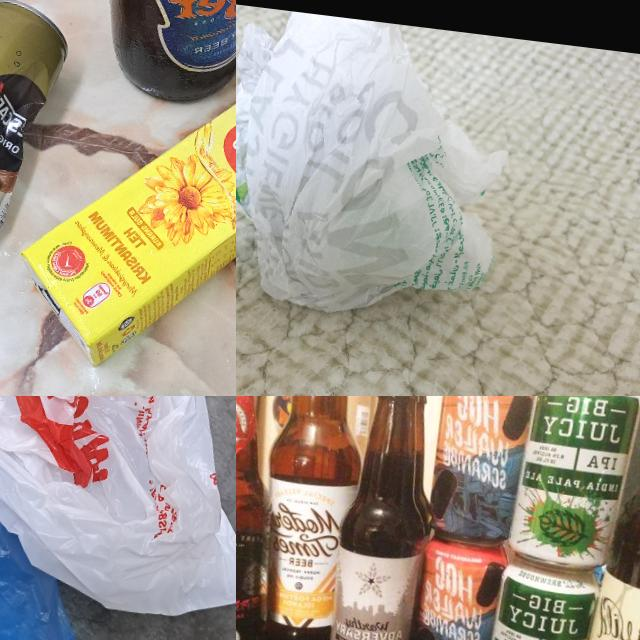caixinha: (10, 80, 236, 387)
garrafa de vidro: (246, 396, 378, 640), (320, 396, 444, 640), (563, 396, 640, 640), (68, 0, 236, 111), (236, 396, 290, 640)
lata: (506, 396, 640, 578), (0, 0, 75, 270), (424, 396, 537, 547)
sacola plástica: (236, 1, 532, 352), (0, 396, 236, 625)
